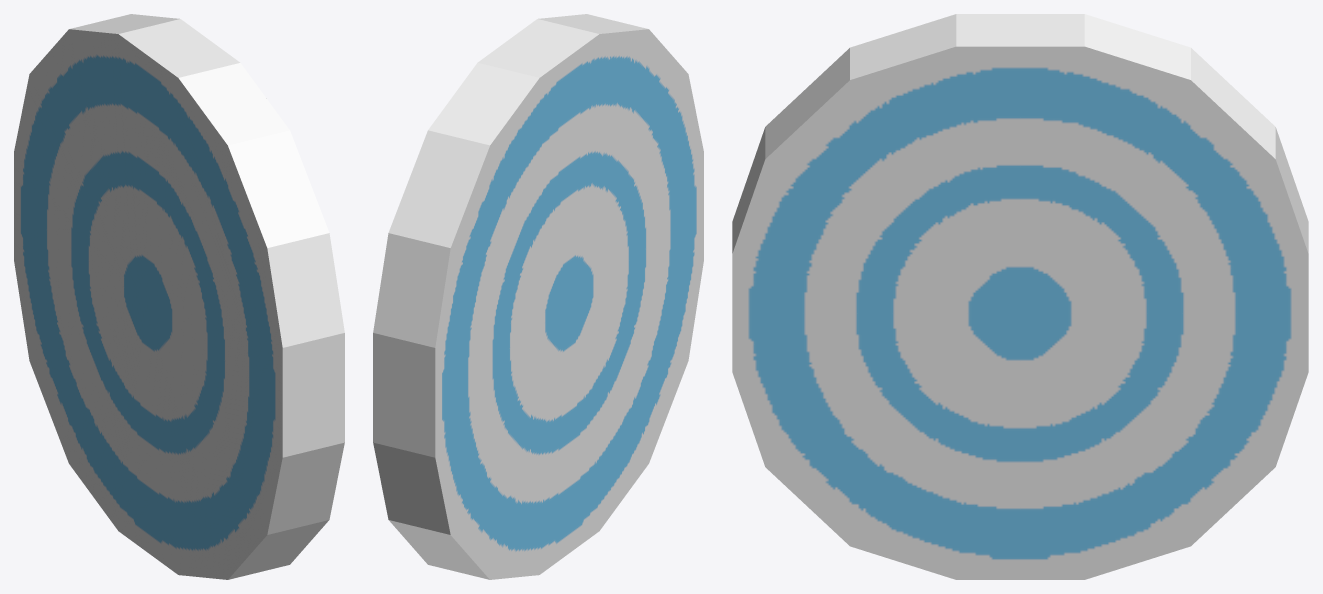
The model's file is Target Blue.fbx.
The picture shows the model from 3 angles, left to right: view 1: azimuth 30°, elevation 25°; view 2: azimuth 150°, elevation 25°; view 3: azimuth 270°, elevation 25°; orthographic projection. The views are drawn at different scales.
Visible parts, largest first — view 1: Target Blue; view 2: Target Blue; view 3: Target Blue.
Part boxes in pixels (x1,y1,x2,y2): Target Blue: (14, 14, 344, 579); Target Blue: (373, 14, 703, 579); Target Blue: (732, 14, 1308, 579).
Bounding box in the file's own units: 32.83 × 251 × 246.
